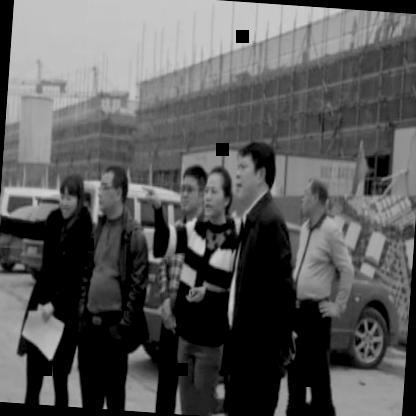head: (231, 135, 278, 208), (200, 162, 236, 222), (94, 162, 132, 218), (54, 166, 90, 224), (176, 159, 210, 219), (300, 174, 334, 224)
